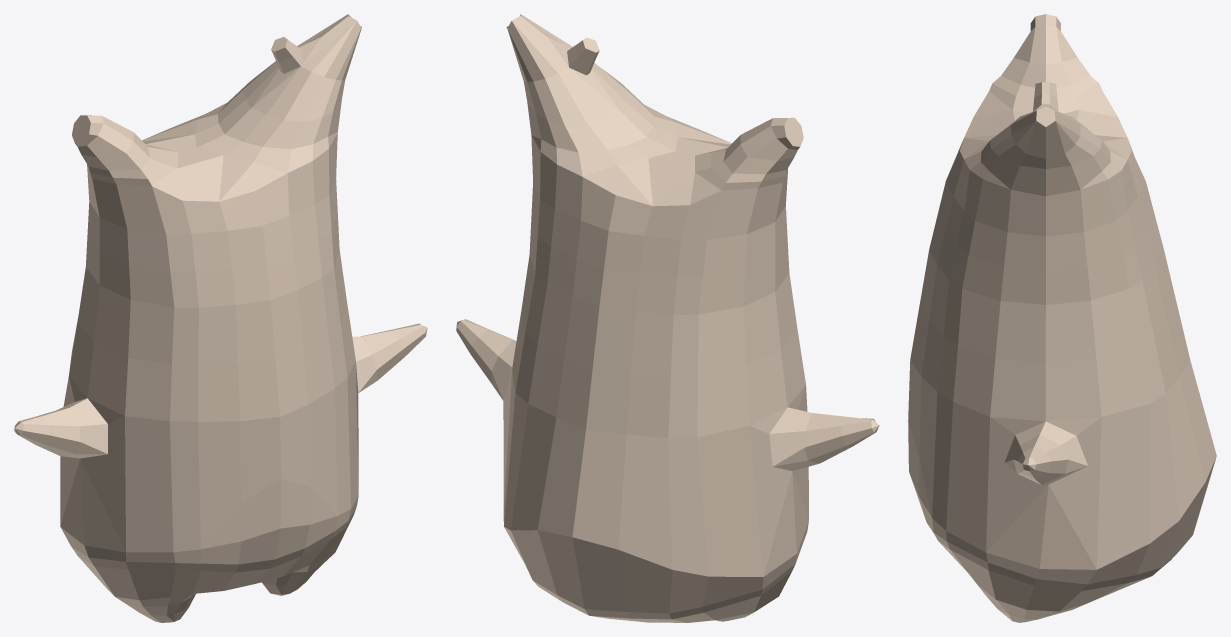
File: frame_0153.obj
3 views of the same model, side by side, from view 1: azimuth 30°, elevation 25°; view 2: azimuth 150°, elevation 25°; view 3: azimuth 270°, elevation 25° (orthographic). The views are drawn at different scales.
Parts seen in each view (by area): view 1: korok; view 2: korok; view 3: korok.
Part boxes in pixels (box(x1,y1,x2,y2)): korok: box(14, 14, 427, 622); korok: box(456, 14, 879, 622); korok: box(908, 14, 1216, 622).
Size of the model in its own units: 1.64 by 2.09 by 1.06.
